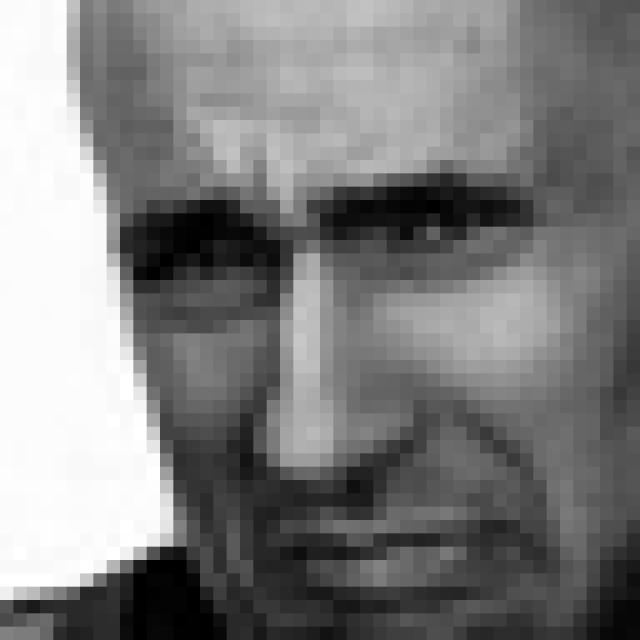disgust: (126, 132, 571, 640)
